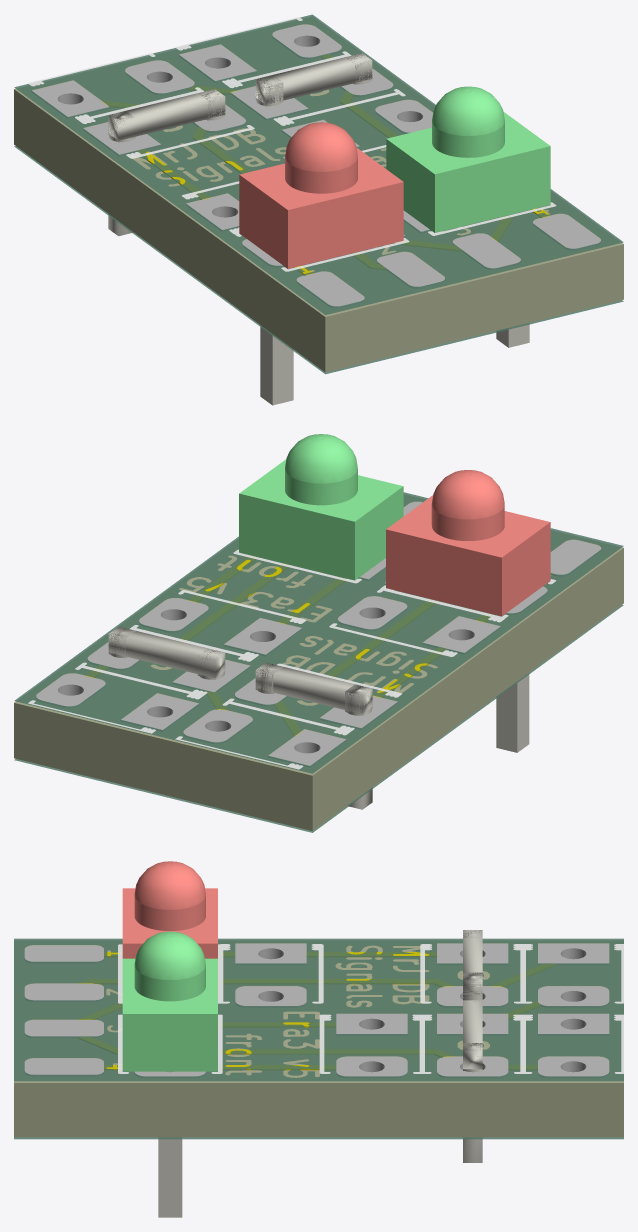
File: MrJ-DB-Era3-prod-bloc.glb
3 renders of one model, top to bottom at view 1: azimuth 30°, elevation 25°; view 2: azimuth 150°, elevation 25°; view 3: azimuth 270°, elevation 25°, orthographic. The views are drawn at different scales.
Visible parts, largest first — view 1: =>[0:1:1:13], =>[0:1:1:11], =>[0:1:1:7], =>[0:1:1:9], =>[0:1:1:3], =>[0:1:1:5] (×2), =>[0:1:1:10], =>[0:1:1:8], =>[0:1:1:12]; view 2: =>[0:1:1:13], =>[0:1:1:11], =>[0:1:1:7], =>[0:1:1:9], =>[0:1:1:3], =>[0:1:1:5] (×2), =>[0:1:1:10], =>[0:1:1:8], =>[0:1:1:12]; view 3: =>[0:1:1:13], =>[0:1:1:11], =>[0:1:1:9], =>[0:1:1:3], =>[0:1:1:7], =>[0:1:1:8], =>[0:1:1:10], =>[0:1:1:5] (×2), =>[0:1:1:12].
Boxes of the visible parts, box(x1,y1,x2,y2) form: =>[0:1:1:13]: box(14, 17, 623, 372); =>[0:1:1:11]: box(14, 14, 623, 314); =>[0:1:1:7]: box(239, 122, 403, 405); =>[0:1:1:9]: box(32, 24, 600, 307); =>[0:1:1:3]: box(386, 86, 550, 347); =>[0:1:1:5] (×2): box(108, 53, 372, 236); =>[0:1:1:10]: box(28, 17, 556, 271); =>[0:1:1:8]: box(101, 54, 550, 275); =>[0:1:1:12]: box(14, 146, 623, 374); =>[0:1:1:13]: box(14, 495, 623, 830); =>[0:1:1:11]: box(14, 492, 623, 773); =>[0:1:1:7]: box(386, 470, 550, 752); =>[0:1:1:9]: box(36, 502, 601, 766); =>[0:1:1:3]: box(239, 434, 403, 580); =>[0:1:1:5] (×2): box(108, 626, 372, 809); =>[0:1:1:10]: box(28, 549, 555, 769); =>[0:1:1:8]: box(85, 557, 489, 736); =>[0:1:1:12]: box(14, 604, 623, 832); =>[0:1:1:13]: box(14, 941, 623, 1137); =>[0:1:1:11]: box(14, 938, 623, 1081); =>[0:1:1:9]: box(24, 943, 609, 1077); =>[0:1:1:3]: box(122, 931, 217, 1217); =>[0:1:1:7]: box(122, 861, 217, 958); =>[0:1:1:8]: box(78, 952, 555, 1070); =>[0:1:1:10]: box(118, 944, 623, 1073); =>[0:1:1:5] (×2): box(463, 930, 482, 1162); =>[0:1:1:12]: box(14, 1137, 623, 1139).
Bounding box in the file's own units: 0.00851 × 0.0071 × 0.0154.
